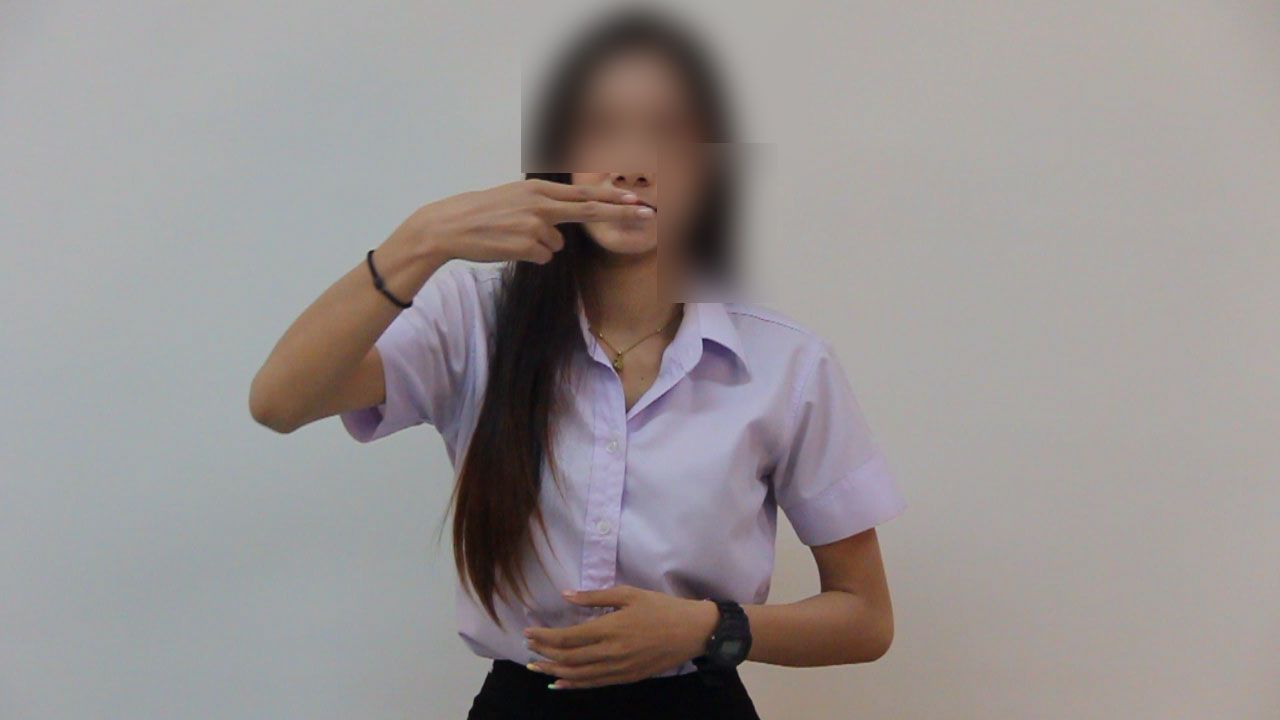hor: (424, 175, 664, 284)
